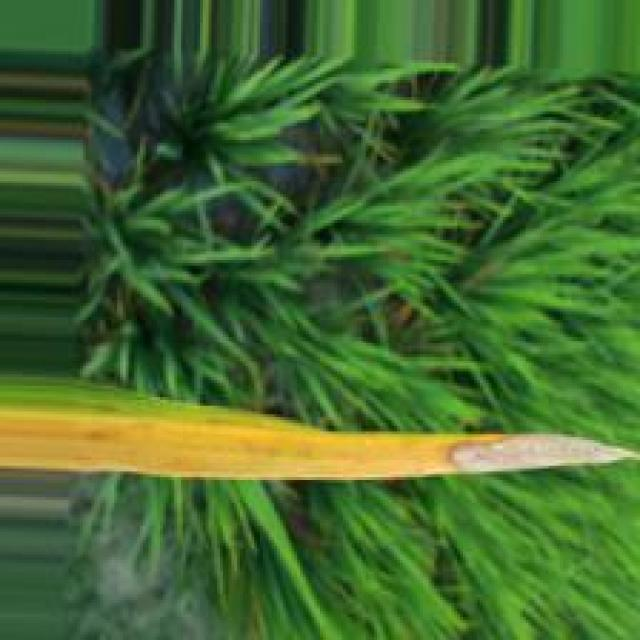Leaf_Scald: (444, 434, 640, 471)
